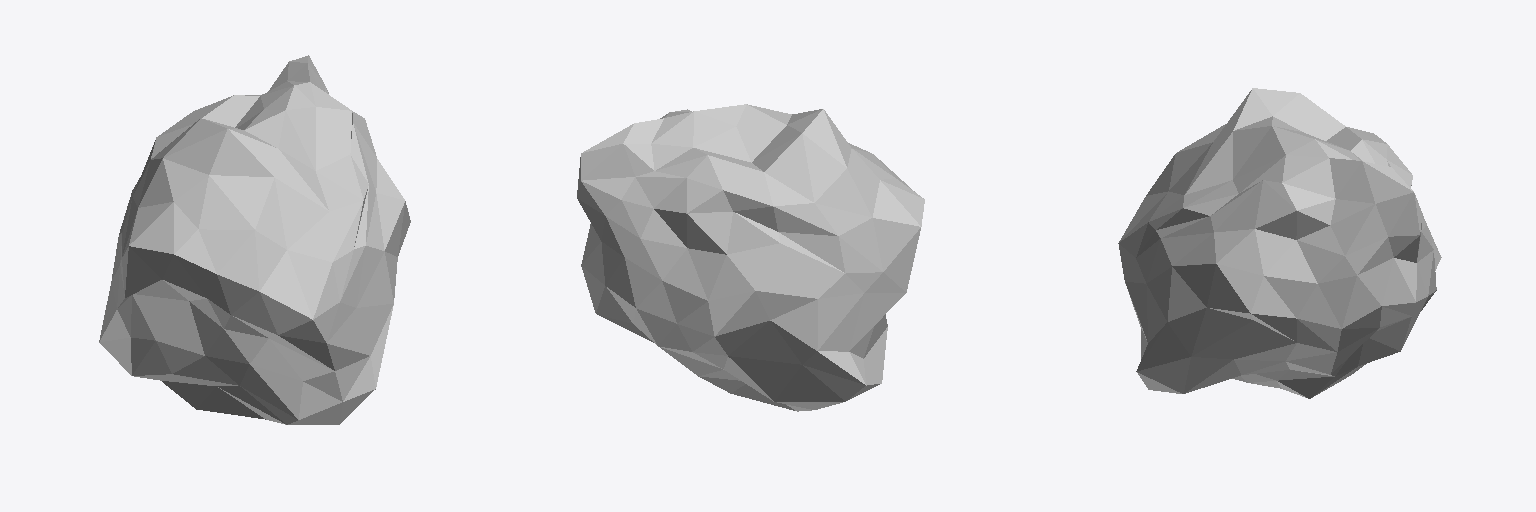
File: Genastre2.obj
3 renders of one model, left to right at view 1: azimuth 30°, elevation 25°; view 2: azimuth 150°, elevation 25°; view 3: azimuth 270°, elevation 25°, orthographic.
Parts seen in each view (by area): view 1: astre2; view 2: astre2; view 3: astre2.
Part boxes in pixels (x1,y1,x2,y2): astre2: (99,55,410,424); astre2: (577,104,924,411); astre2: (1118,88,1441,398).
Bounding box in the file's own units: 98.63 × 99.15 × 98.36.